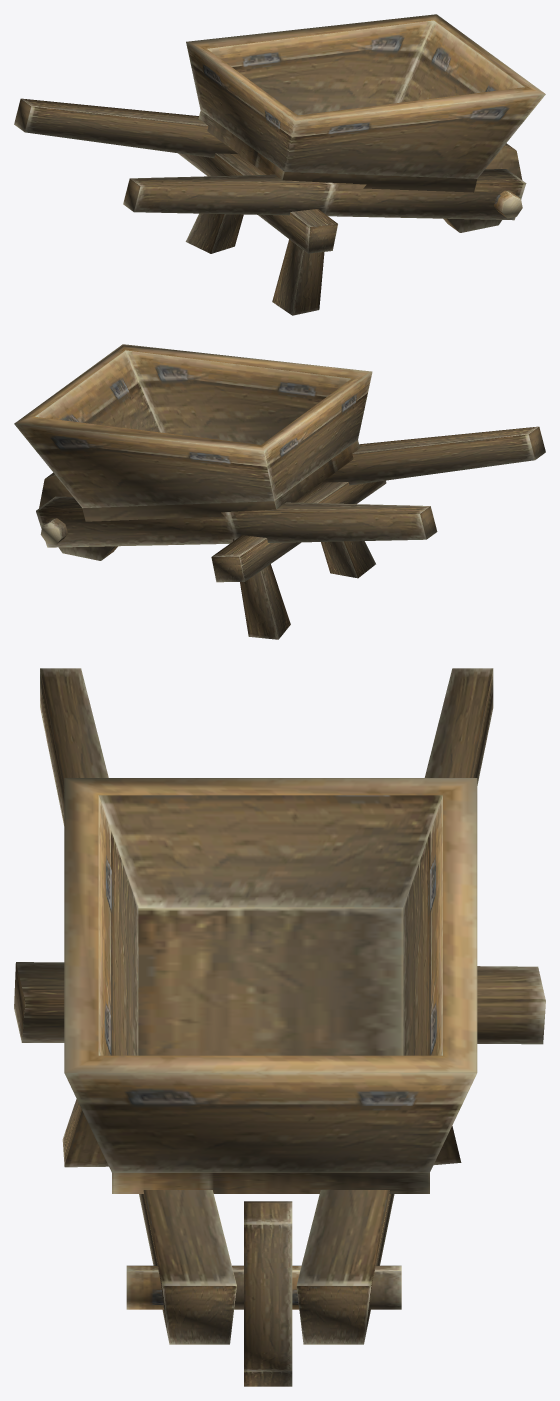
Rendered from caveminewheelbarrow01.obj.
3 renders of one model, top to bottom at view 1: azimuth 30°, elevation 25°; view 2: azimuth 150°, elevation 25°; view 3: azimuth 270°, elevation 25°, orthographic. The views are drawn at different scales.
Visible parts, largest first — view 1: caveminewheelbarrow01; view 2: caveminewheelbarrow01; view 3: caveminewheelbarrow01.
Part boxes in pixels (<box>): caveminewheelbarrow01: <box>14,14,545,315</box>; caveminewheelbarrow01: <box>14,344,545,639</box>; caveminewheelbarrow01: <box>14,668,545,1386</box>.
Bounding box in the file's own units: 2.89 × 1.24 × 1.58.
Materials: 1 (1 with a texture image).
